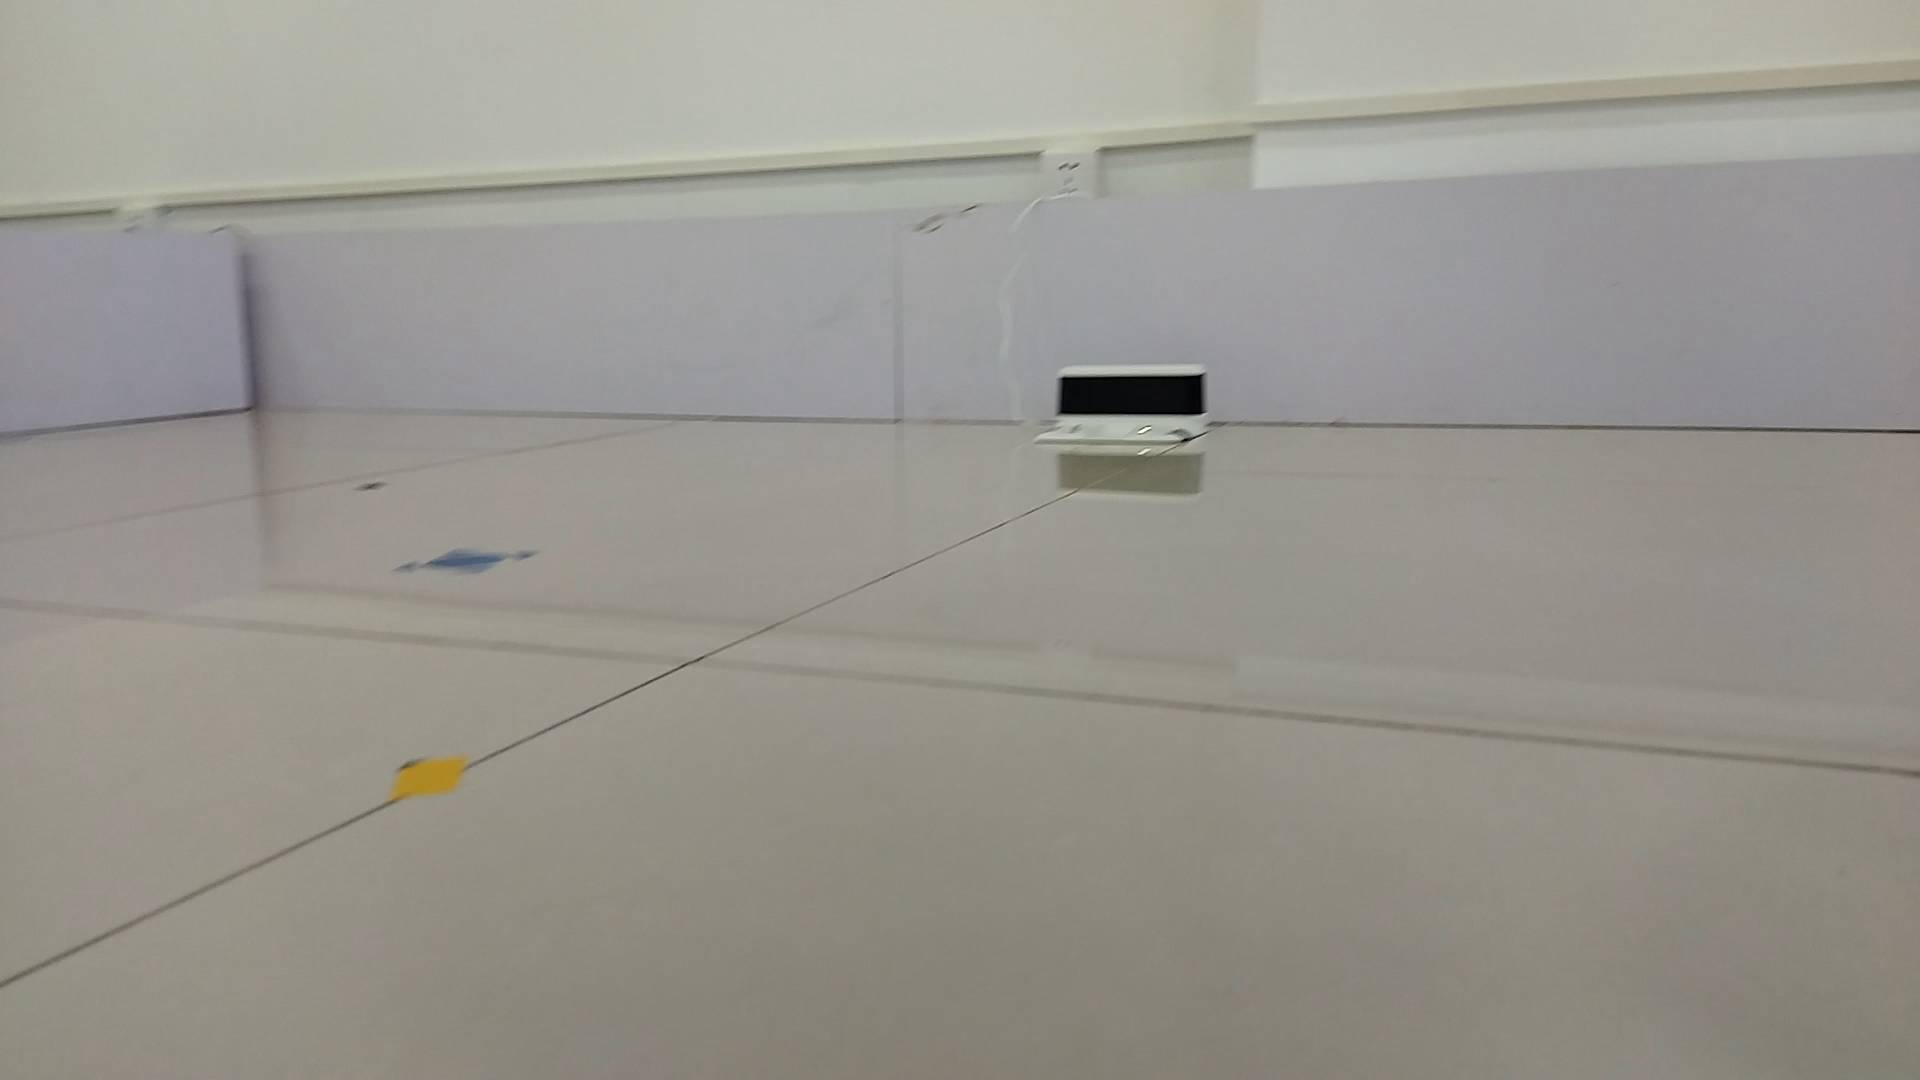recharge seat: (1036, 364, 1216, 446)
